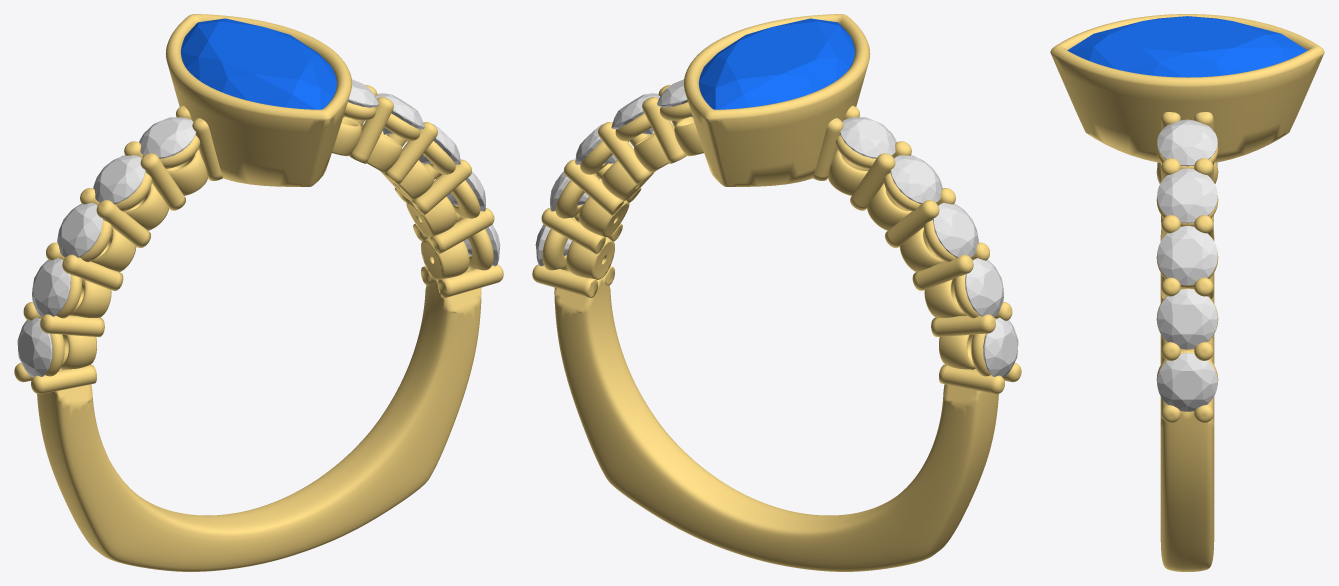
The model's file is bluesapphire-marquise-yellowgold-bezelset-europeanshank-11stone.glb.
3 renders of one model, left to right at view 1: azimuth 30°, elevation 25°; view 2: azimuth 150°, elevation 25°; view 3: azimuth 270°, elevation 25°, orthographic.
Parts seen in each view (by area): view 1: metal.002, stone.002, side.022, side.023, side.021, side.024, side.020, side.028; view 2: metal.002, stone.002, side.022, side.023, side.021, side.024, side.020, side.028; view 3: metal.002, stone.002, side.026, side.027, side.025, side.028, side.029.
Boxes of the visible parts, bbox=[...] form: metal.002: bbox=[14, 14, 503, 571]; stone.002: bbox=[181, 18, 337, 109]; side.022: bbox=[57, 203, 102, 257]; side.023: bbox=[93, 155, 145, 204]; side.021: bbox=[32, 258, 70, 316]; side.024: bbox=[139, 117, 196, 158]; side.020: bbox=[17, 317, 52, 377]; side.028: bbox=[376, 93, 424, 134]; metal.002: bbox=[532, 14, 1021, 571]; stone.002: bbox=[698, 18, 854, 109]; side.022: bbox=[933, 203, 978, 257]; side.023: bbox=[890, 155, 942, 204]; side.021: bbox=[965, 258, 1003, 316]; side.024: bbox=[839, 117, 896, 158]; side.020: bbox=[983, 317, 1018, 377]; side.028: bbox=[611, 93, 659, 134]; metal.002: bbox=[1050, 14, 1324, 571]; stone.002: bbox=[1067, 16, 1307, 77]; side.026: bbox=[1157, 289, 1217, 349]; side.027: bbox=[1157, 226, 1217, 285]; side.025: bbox=[1157, 353, 1217, 411]; side.028: bbox=[1157, 168, 1217, 223]; side.029: bbox=[1157, 119, 1217, 166].
Size of the model in its own units: 22.1 by 22.73 by 11.31.
